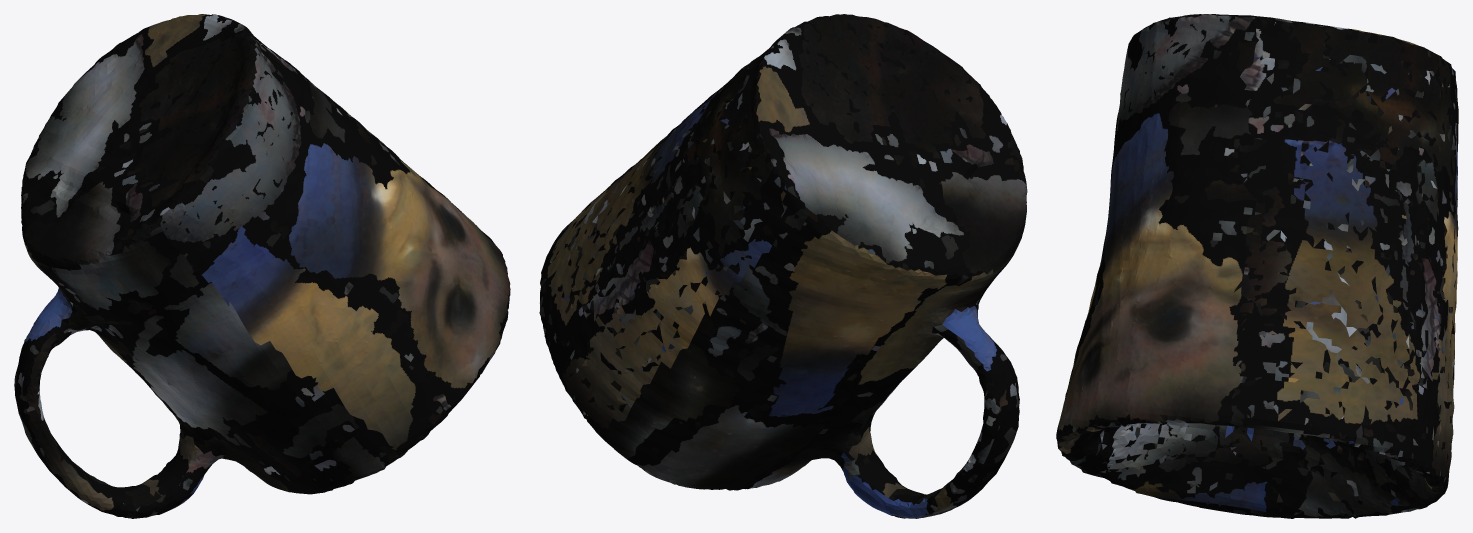
The model's file is center_mesh_cup-stanford.obj.
3 renders of one model, left to right at view 1: azimuth 30°, elevation 25°; view 2: azimuth 150°, elevation 25°; view 3: azimuth 270°, elevation 25°, orthographic. The views are drawn at different scales.
Bounding box in the file's own units: 0.1376 × 0.1336 × 0.0972.
